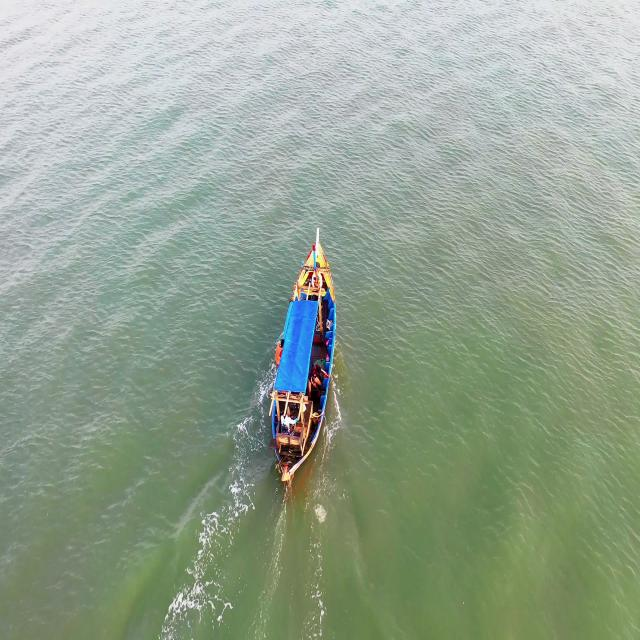ship: (270, 229, 339, 488)
